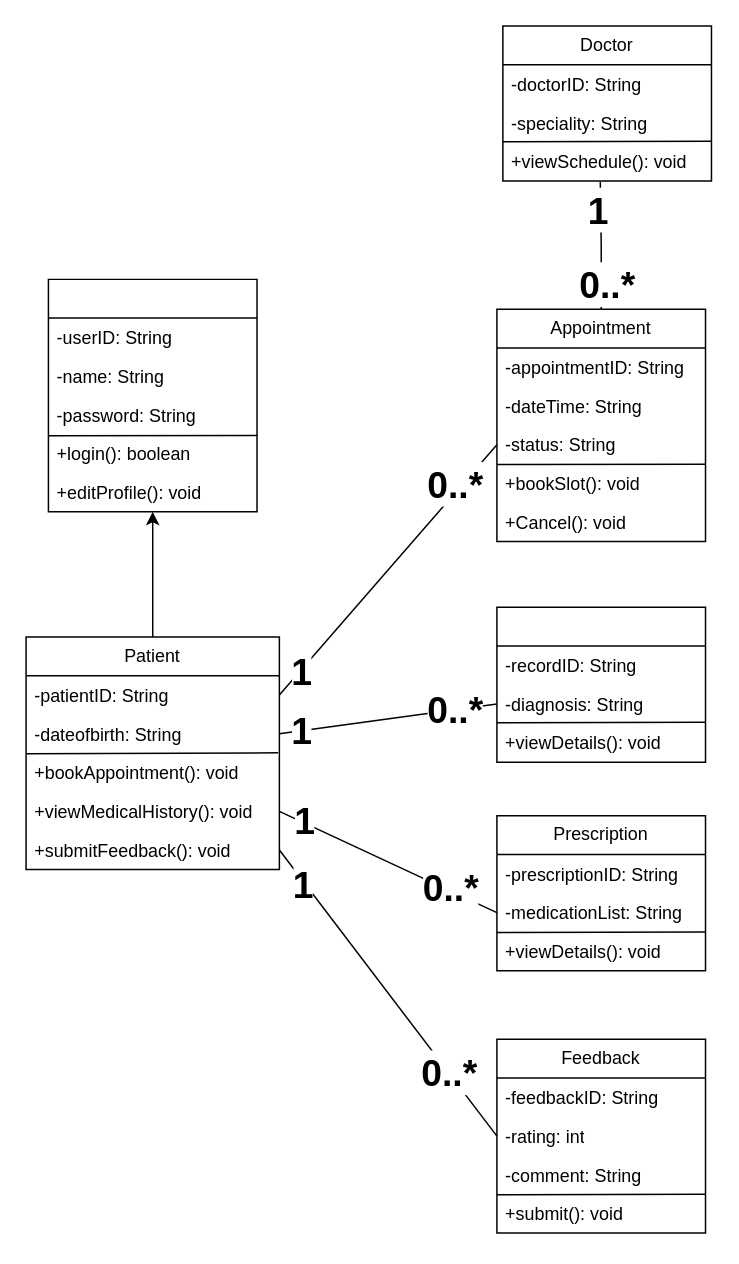
This 739x1264 diagram has some shape labels left out. The shapes that lost their labels are listed below. From the top down, each one's box as (x1, y1, x2, y2) in pixels, then its label:
(47, 278, 257, 512): User (abstract)
(495, 606, 706, 762): MedicalRecord
